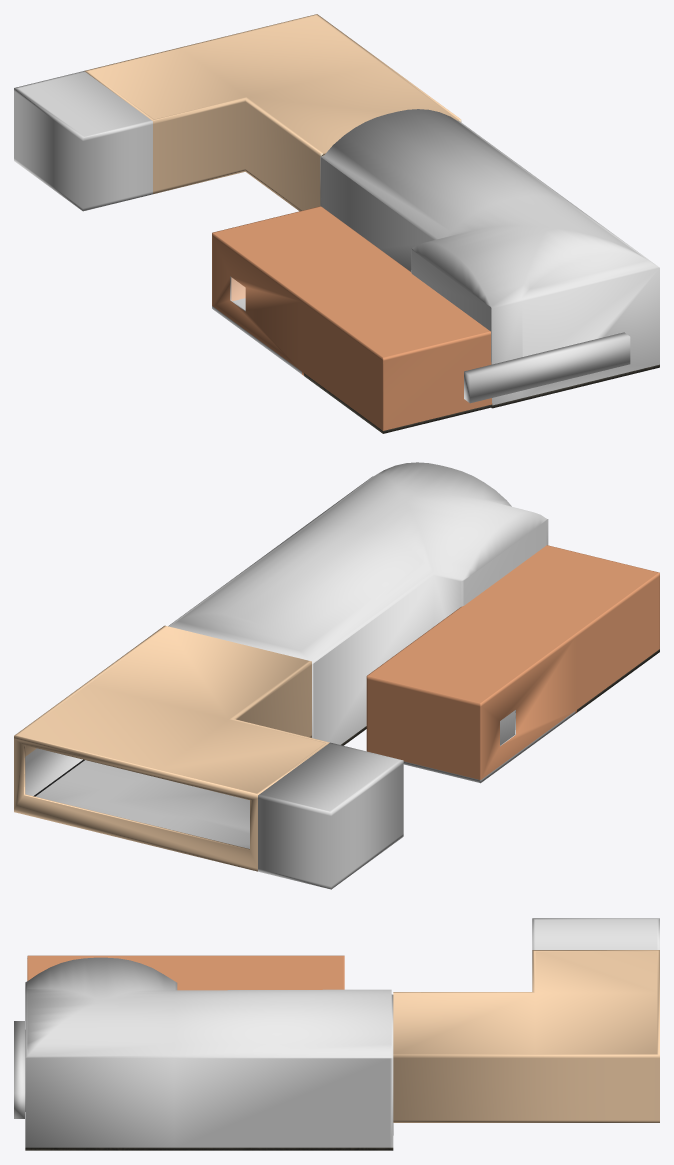
The model's file is Brew_Build_Single.fbx.
3 renders of one model, top to bottom at view 1: azimuth 30°, elevation 25°; view 2: azimuth 150°, elevation 25°; view 3: azimuth 270°, elevation 25°, orthographic. The views are drawn at different scales.
Parts seen in each view (by area): view 1: R02_Tanks, R03_Bar, R01_Brew, R00_Start; view 2: R01_Brew, R02_Tanks, R03_Bar, R00_Start; view 3: R02_Tanks, R01_Brew, R03_Bar, R00_Start.
Part boxes in pixels (left/top/right/bottom): R02_Tanks: left=320, top=109, right=659, bottom=408; R03_Bar: left=212, top=206, right=492, bottom=433; R01_Brew: left=84, top=14, right=461, bottom=211; R00_Start: left=14, top=71, right=152, bottom=211; R01_Brew: left=14, top=625, right=329, bottom=871; R02_Tanks: left=168, top=462, right=548, bottom=745; R03_Bar: left=366, top=545, right=659, bottom=783; R00_Start: left=258, top=742, right=403, bottom=889; R02_Tanks: left=14, top=957, right=393, bottom=1150; R01_Brew: left=393, top=950, right=659, bottom=1122; R03_Bar: left=27, top=955, right=344, bottom=990; R00_Start: left=532, top=918, right=659, bottom=949.
Bounding box in the file's own units: 2132 × 854 × 4248.
